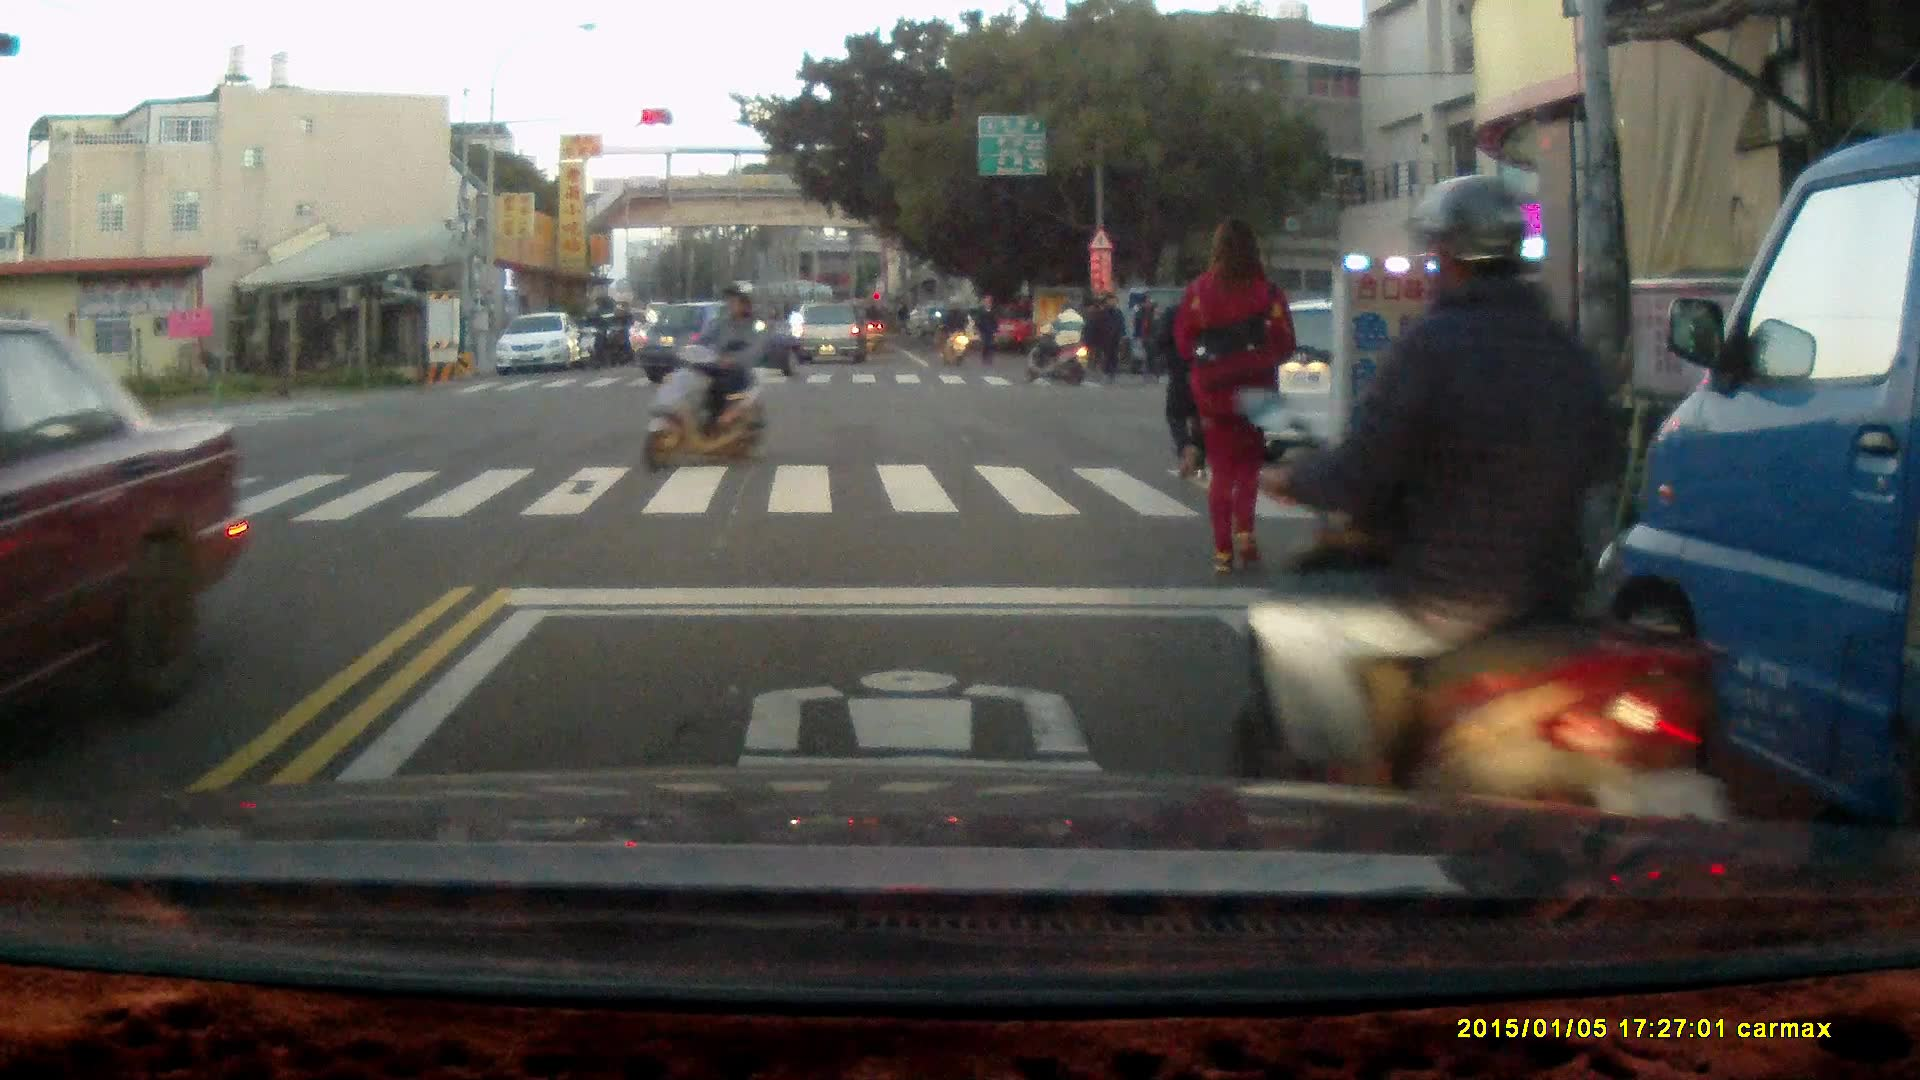pedestrian: (1175, 215, 1297, 578), (1152, 261, 1236, 483), (1091, 290, 1124, 385), (1138, 298, 1164, 380), (976, 292, 1000, 367)
rider: (1235, 168, 1723, 883), (640, 281, 775, 476), (1025, 296, 1091, 388), (931, 294, 973, 370), (575, 302, 607, 370), (603, 302, 632, 364)
vehicle: (1598, 132, 1920, 880), (1, 319, 244, 740), (1233, 296, 1533, 459), (638, 303, 806, 387), (498, 313, 586, 377), (792, 302, 872, 367)
